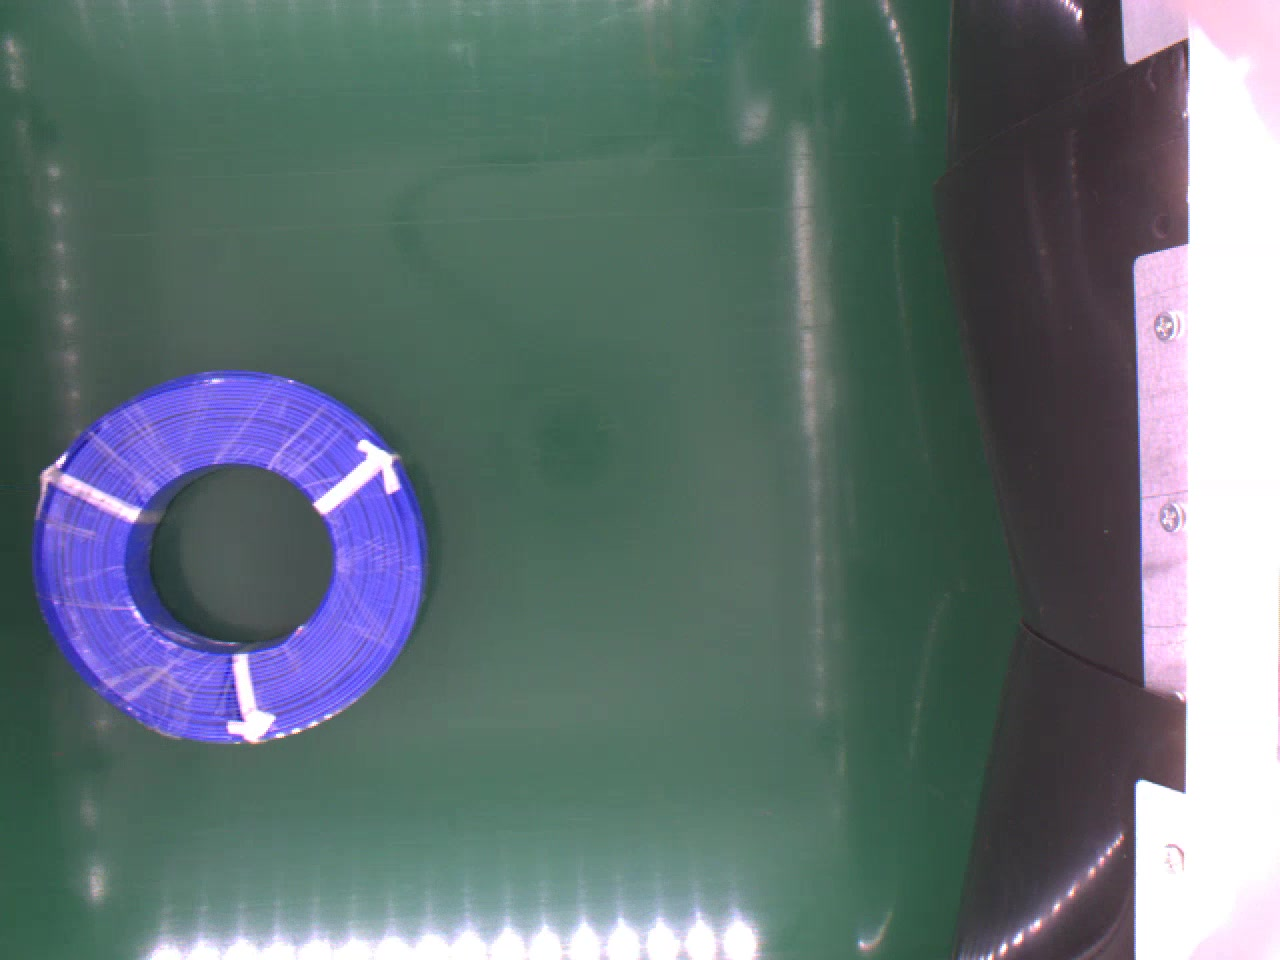blue: (29, 370, 436, 741)
